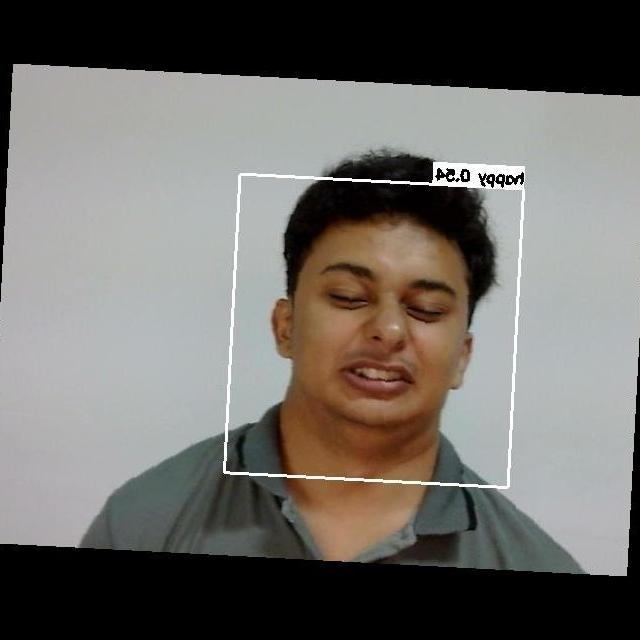Disgust: (280, 233, 470, 428)
